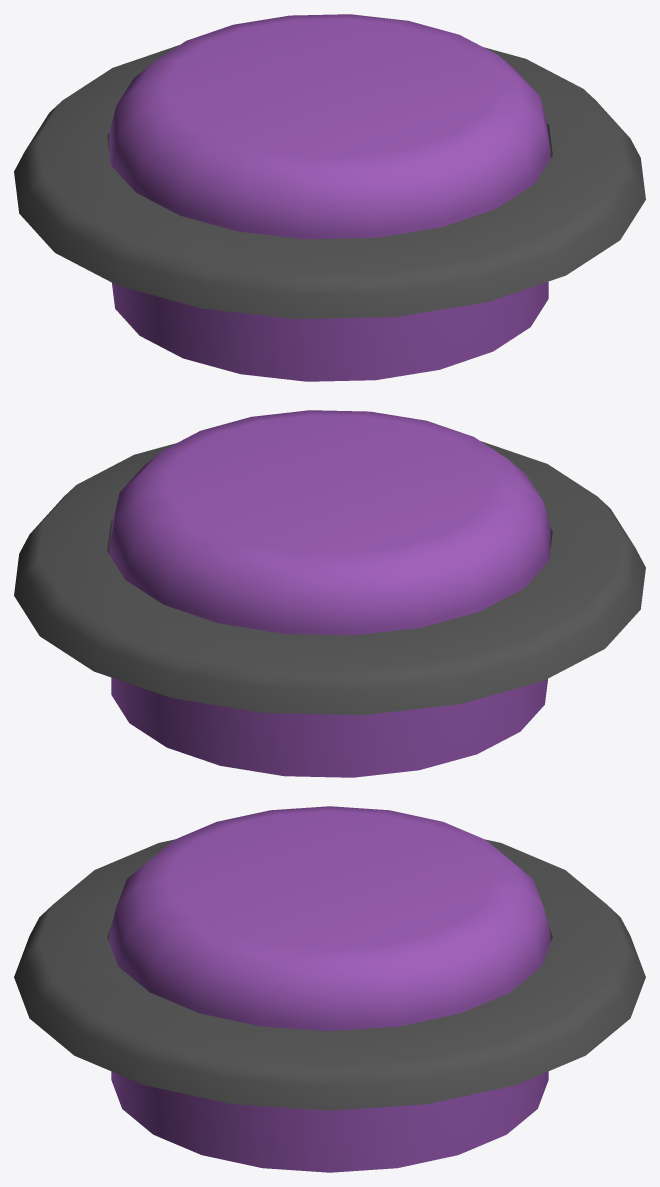
The model's file is button3_pressed.glb.
The picture shows the model from 3 angles, top to bottom: view 1: azimuth 30°, elevation 25°; view 2: azimuth 150°, elevation 25°; view 3: azimuth 270°, elevation 25°; orthographic projection.
Visible parts, largest first — view 1: SM_SimpleButton_B.001, SM_SimpleButton_Base_B.001; view 2: SM_SimpleButton_B.001, SM_SimpleButton_Base_B.001; view 3: SM_SimpleButton_B.001, SM_SimpleButton_Base_B.001.
Boxes of the visible parts, x1=… form: SM_SimpleButton_B.001: x1=109, y1=14, x2=550, y2=381; SM_SimpleButton_Base_B.001: x1=14, y1=45, x2=645, y2=319; SM_SimpleButton_B.001: x1=109, y1=410, x2=550, y2=777; SM_SimpleButton_Base_B.001: x1=14, y1=441, x2=645, y2=715; SM_SimpleButton_B.001: x1=109, y1=806, x2=550, y2=1172; SM_SimpleButton_Base_B.001: x1=14, y1=839, x2=645, y2=1110.
Bounding box in the file's own units: 24.07 × 8.4 × 24.07.
